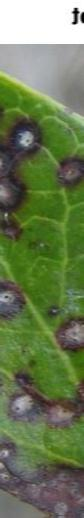Tomato Septoria leaf spot: (0, 50, 84, 512)
